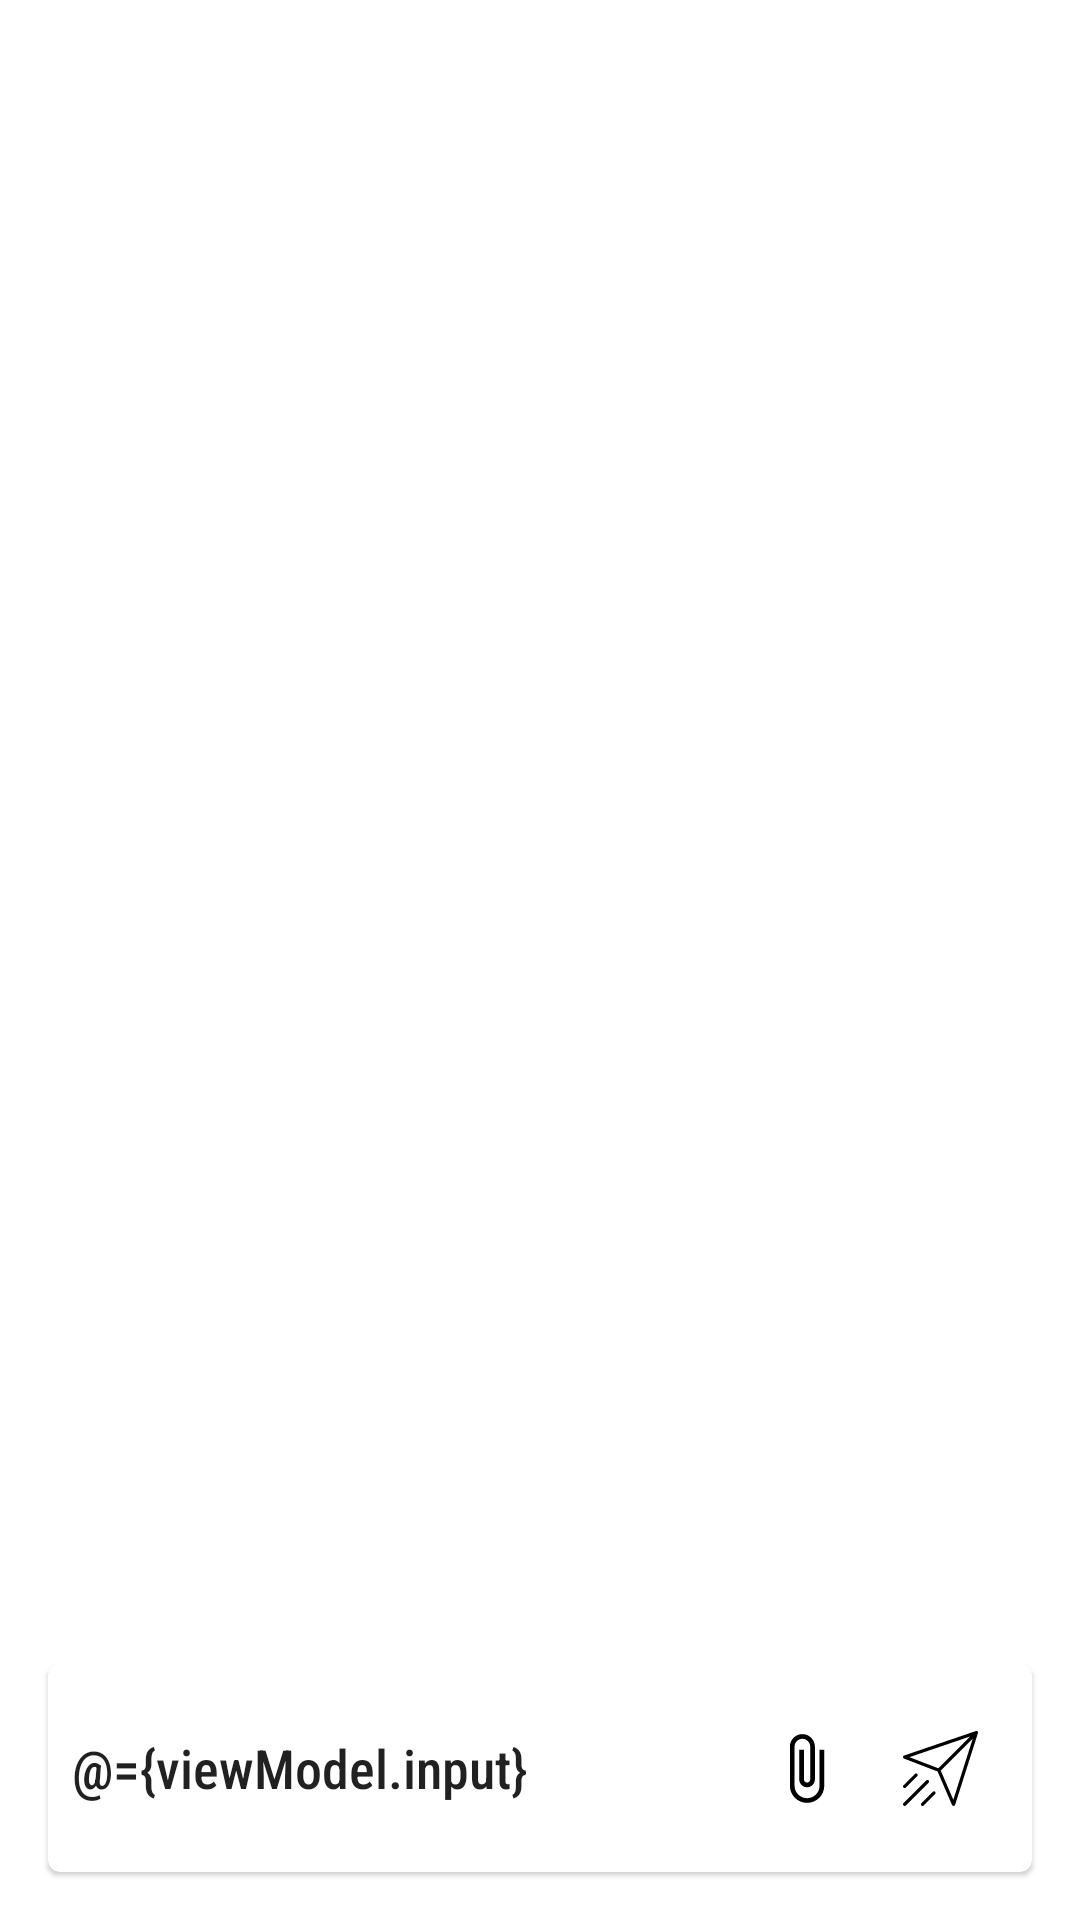

Screen size 1080x1920. Icon name, then its box in pixels as (x1, y1, x2, y2):
attach: (790, 1734, 825, 1803)
